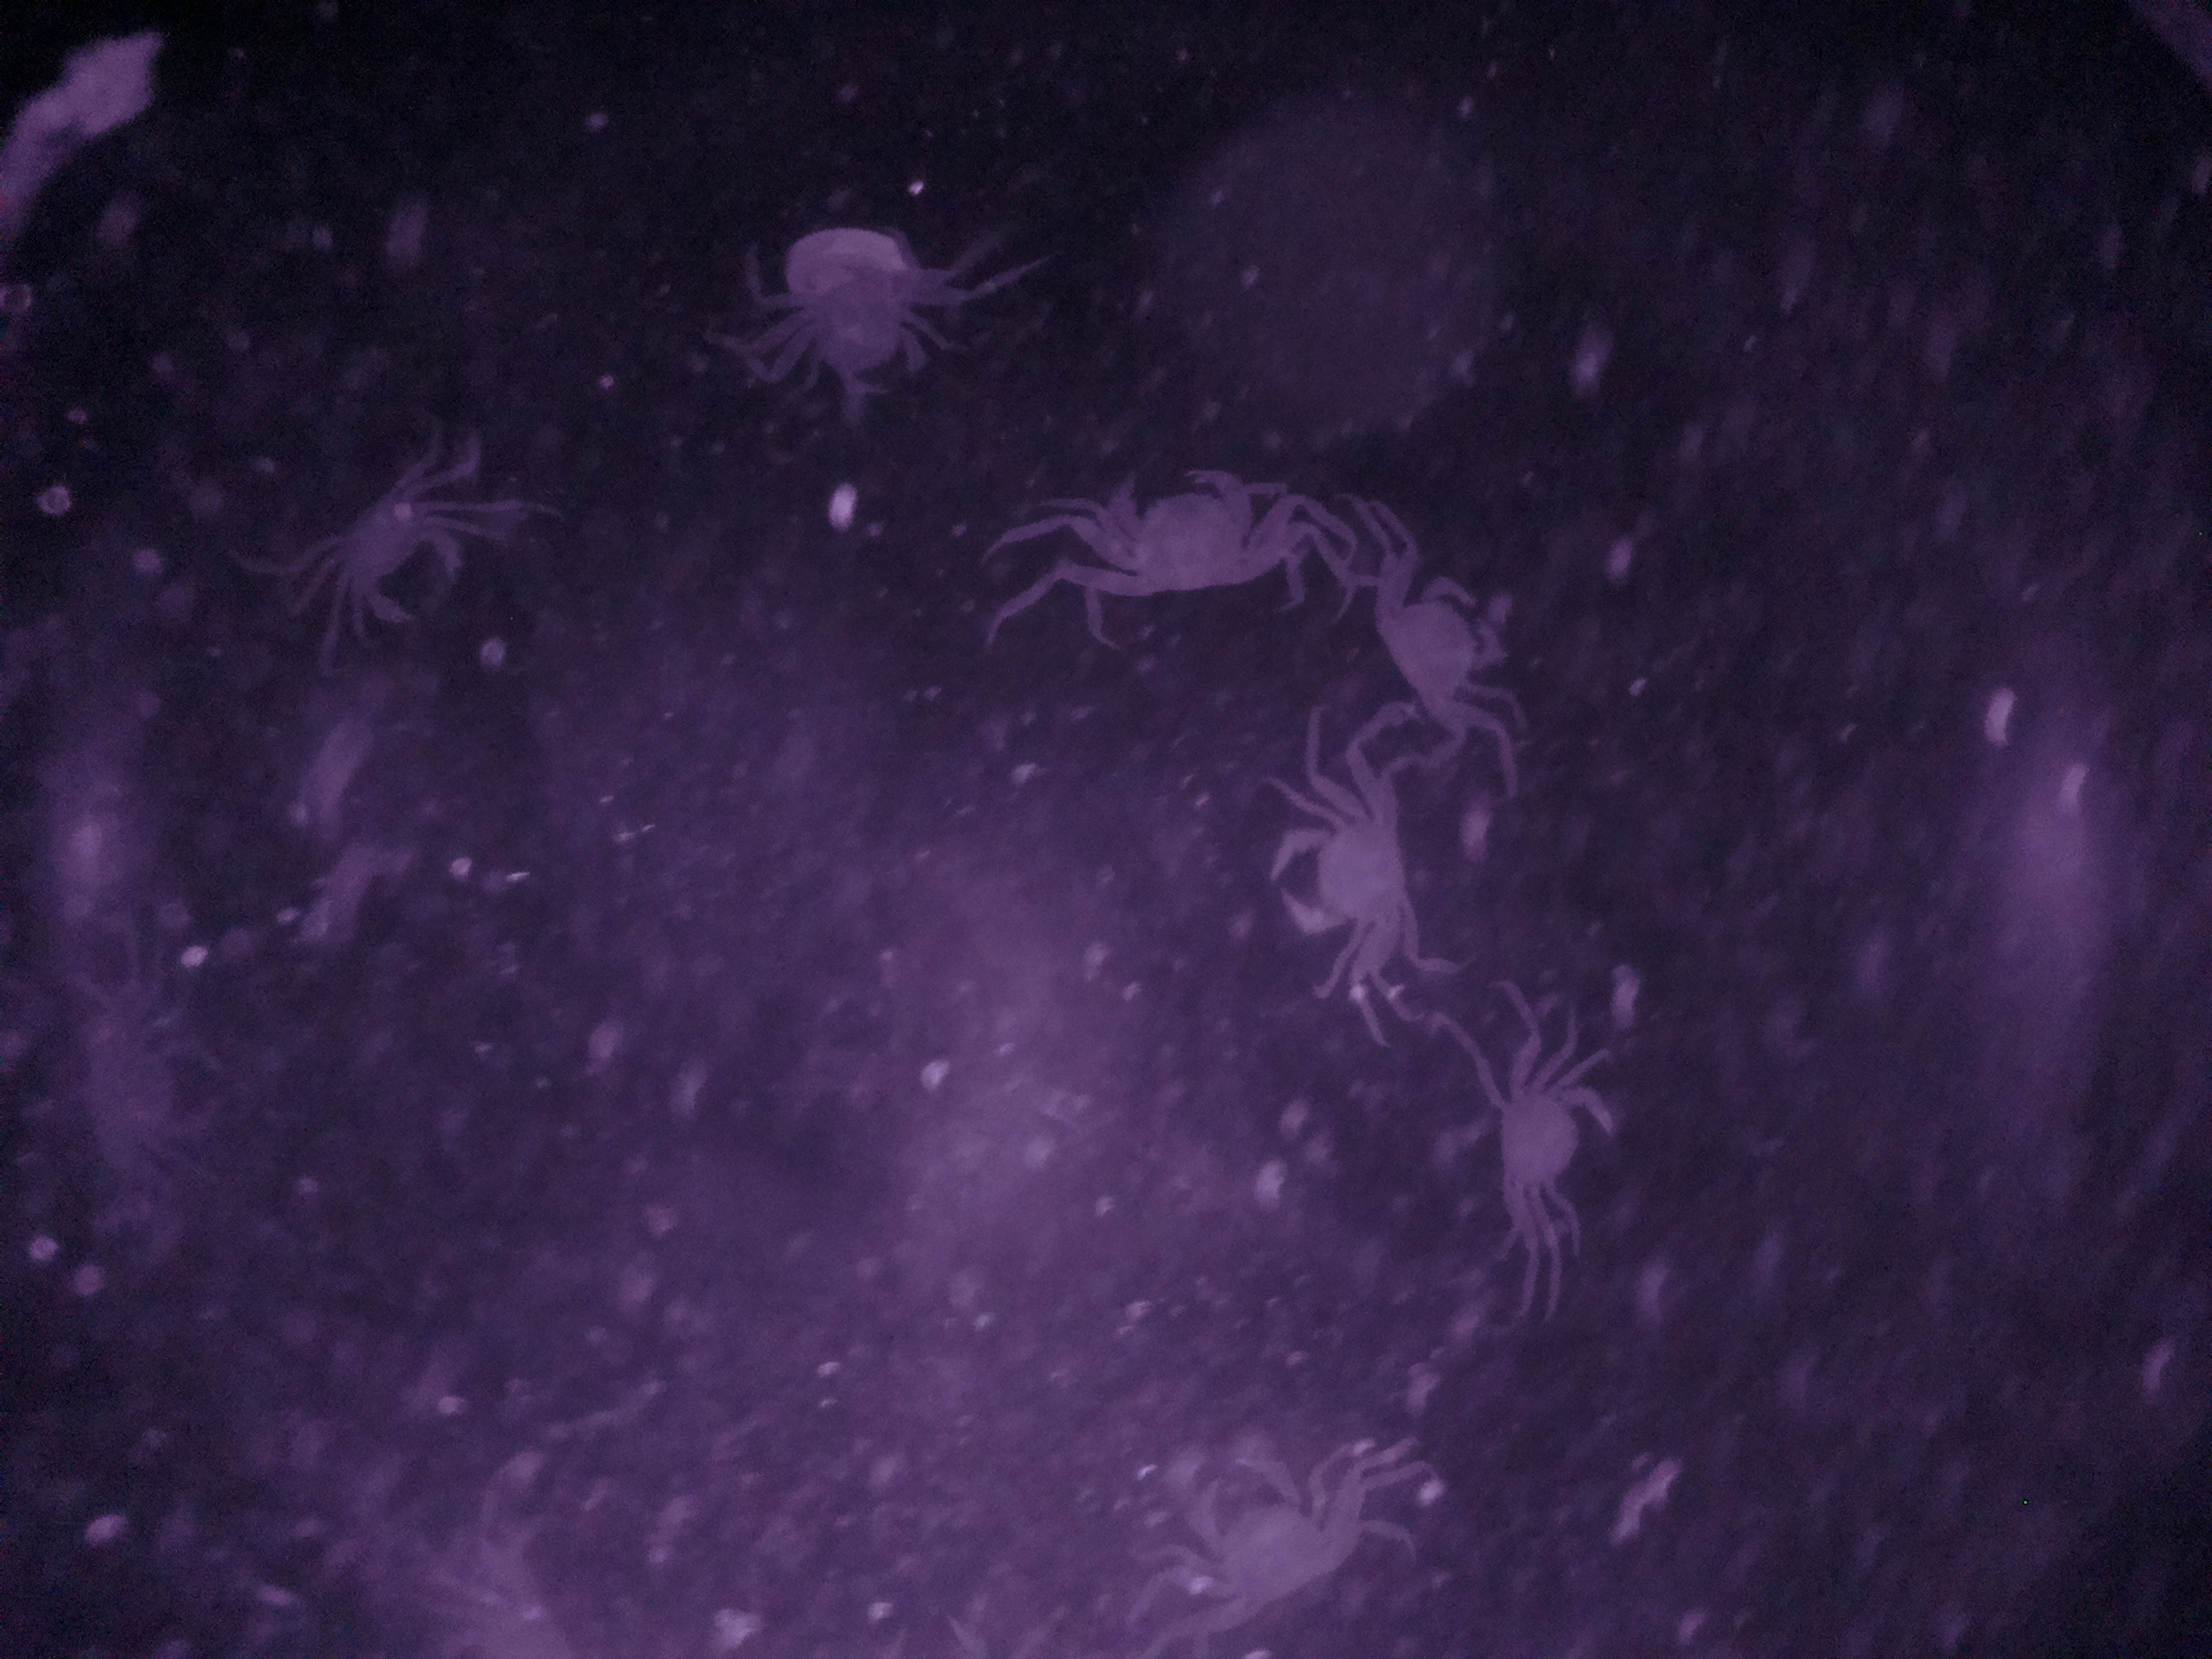Crab: (1146, 1427, 1381, 1631), (1049, 453, 1273, 631), (1256, 772, 1435, 978), (1491, 1040, 1629, 1258), (1366, 533, 1514, 732), (307, 469, 475, 641)
